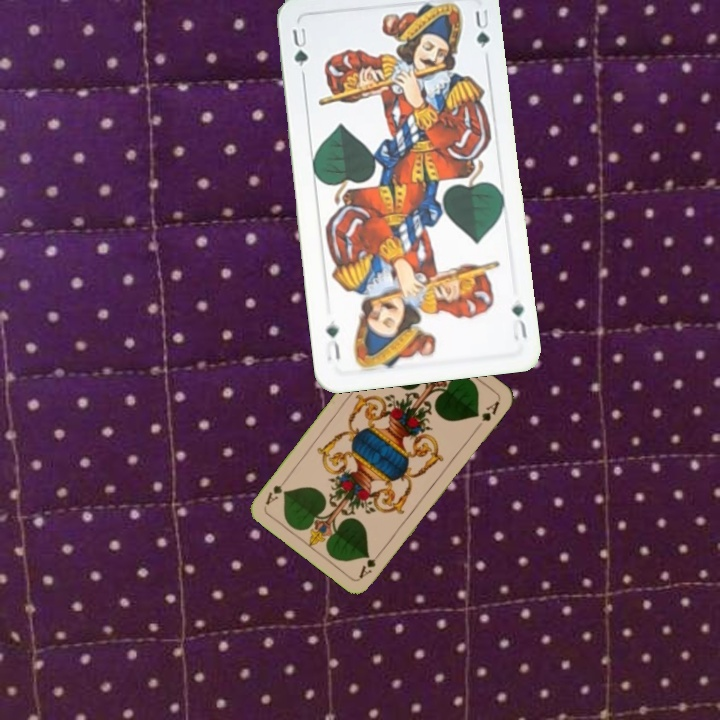GA: (355, 546, 385, 581)
GU: (288, 23, 311, 69), (508, 299, 530, 343)
